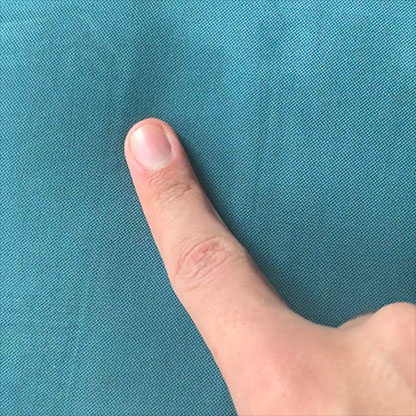fingertip: (120, 107, 200, 185)
